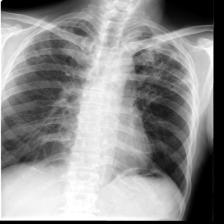tuberculosis: (0, 12, 192, 208)
